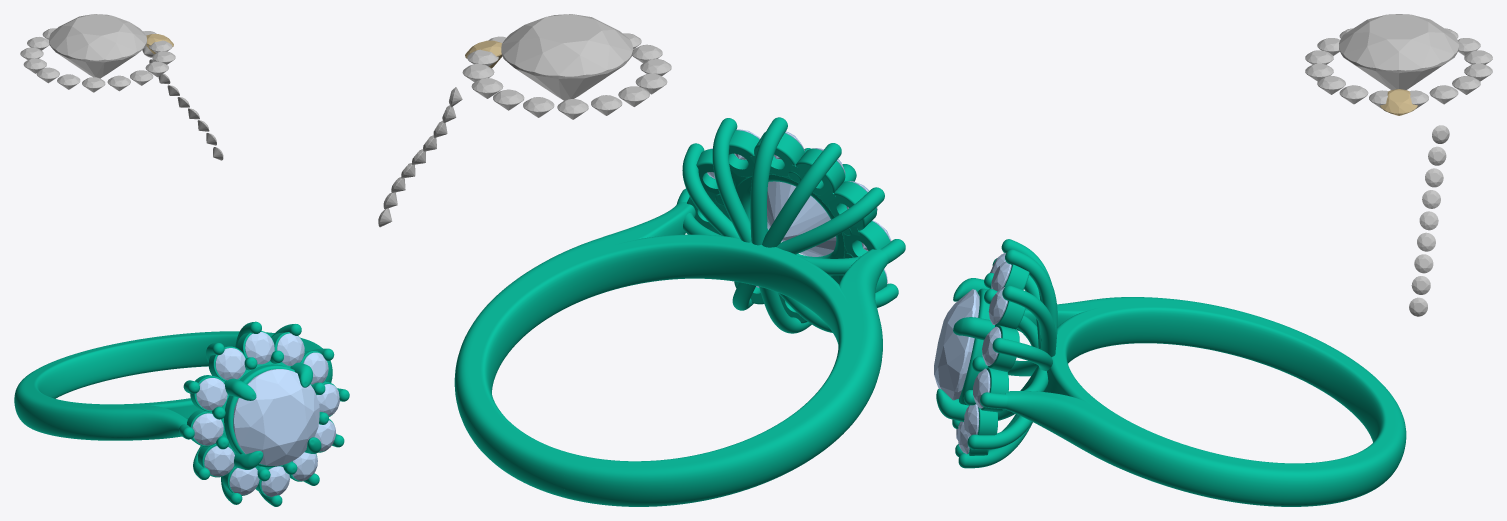
3 views of the same model, side by side, from view 1: azimuth 30°, elevation 25°; view 2: azimuth 150°, elevation 25°; view 3: azimuth 270°, elevation 25° (orthographic). The views are drawn at different scales.
Visible parts, largest first — view 1: JTC-12314(base).3dm, Diamond_Round (×14); view 2: JTC-12314(base).3dm, Diamond_Round (×2); view 3: JTC-12314(base).3dm, Diamond_Round (×3).
Part boxes in pixels (<box>): JTC-12314(base).3dm: <box>14,321,349,506</box>; Diamond_Round (×14): <box>49,14,339,496</box>; JTC-12314(base).3dm: <box>454,117,905,506</box>; Diamond_Round (×2): <box>501,14,836,256</box>; JTC-12314(base).3dm: <box>936,239,1406,506</box>; Diamond_Round (×3): <box>934,14,1458,400</box>.
Size of the model in its own units: 2.39 by 2.9 by 3.41.
